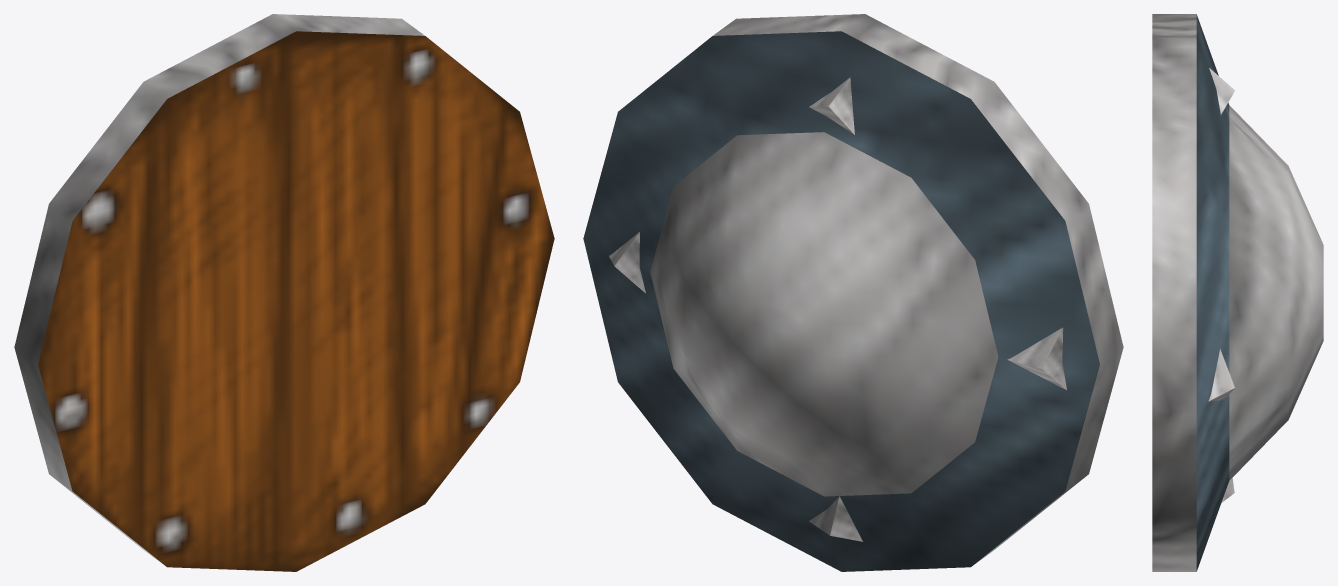
File: humanShield1.fbx
3 renders of one model, left to right at view 1: azimuth 30°, elevation 25°; view 2: azimuth 150°, elevation 25°; view 3: azimuth 270°, elevation 25°, orthographic. The views are drawn at different scales.
Parts seen in each view (by area): view 1: humanShield1; view 2: humanShield1; view 3: humanShield1.
Part boxes in pixels (box(x1,y1,x2,y2)): humanShield1: box(14, 14, 554, 571); humanShield1: box(583, 14, 1123, 571); humanShield1: box(1152, 14, 1323, 571).
Bounding box in the file's own units: 2.37 × 2.37 × 0.7246.
